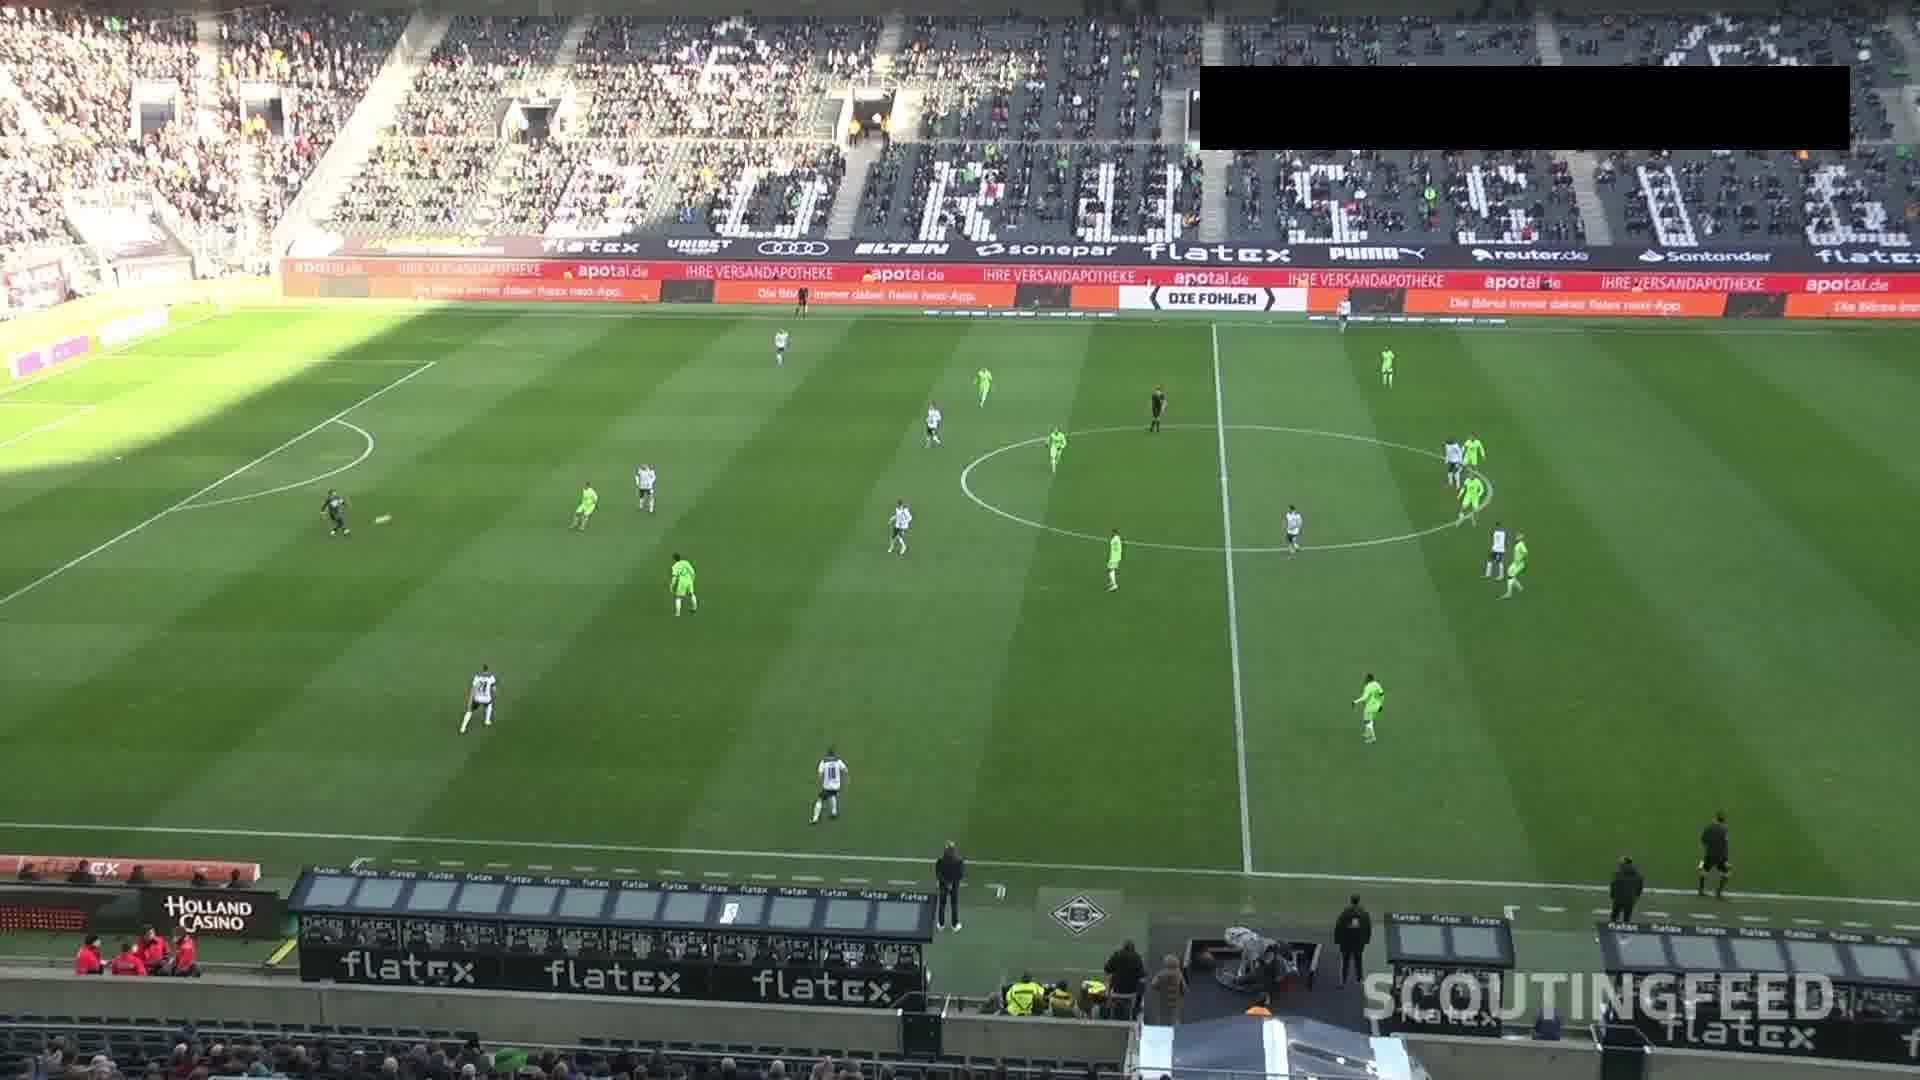football: (373, 512, 393, 526)
